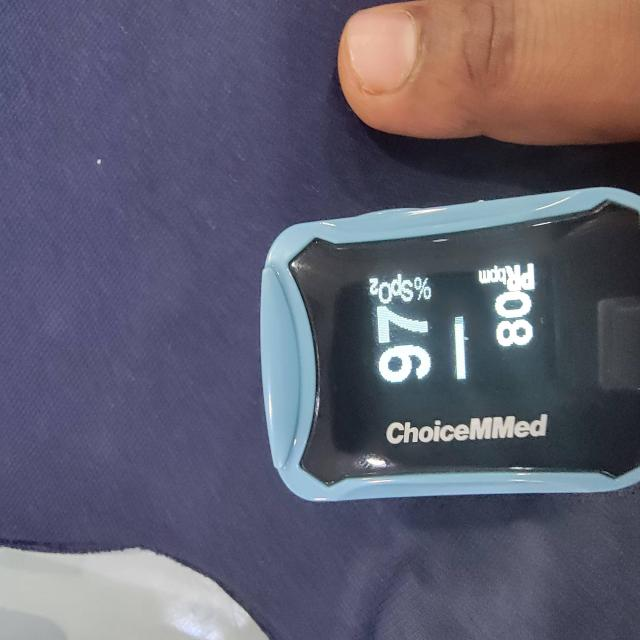spo2: (258, 188, 640, 506)
